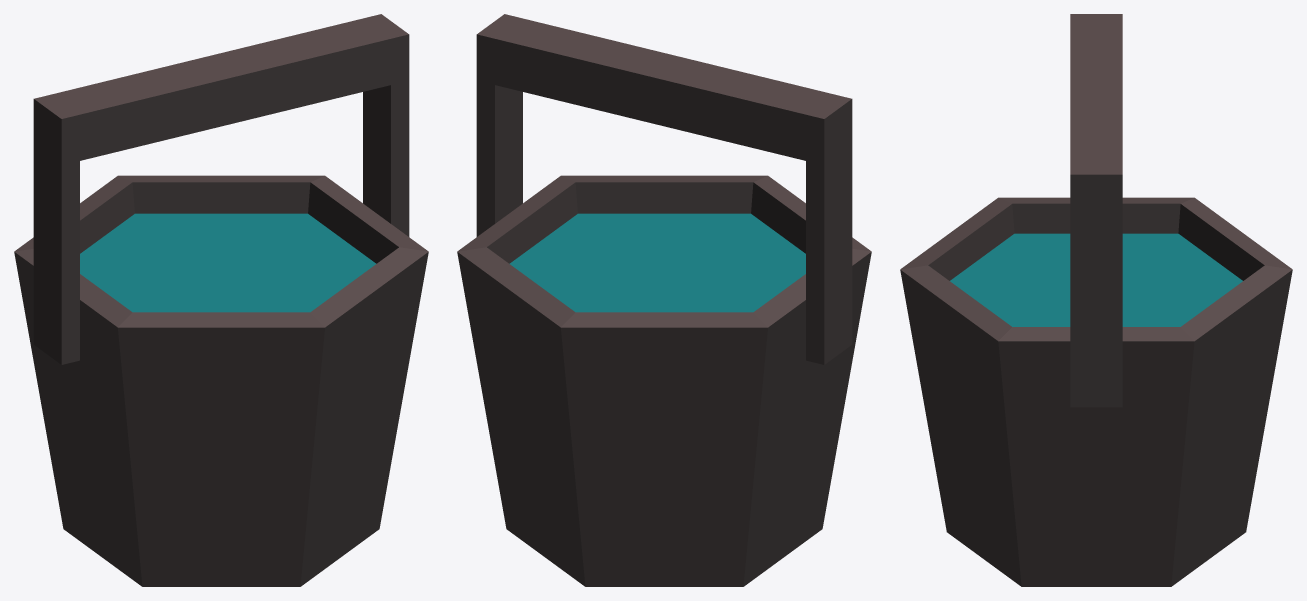
File: TB_D_Prop_HBucket_Water_C.FBX
The picture shows the model from 3 angles, left to right: view 1: azimuth 30°, elevation 25°; view 2: azimuth 150°, elevation 25°; view 3: azimuth 270°, elevation 25°; orthographic projection. The views are drawn at different scales.
Parts seen in each view (by area): view 1: TB_D_Prop_HBucket_Water_C; view 2: TB_D_Prop_HBucket_Water_C; view 3: TB_D_Prop_HBucket_Water_C.
Part boxes in pixels (x1=…): TB_D_Prop_HBucket_Water_C: x1=14, y1=14, x2=428, y2=586; TB_D_Prop_HBucket_Water_C: x1=457, y1=14, x2=871, y2=586; TB_D_Prop_HBucket_Water_C: x1=900, y1=14, x2=1292, y2=586.
Bounding box in the file's own units: 0.5879 × 0.7477 × 0.6076.
